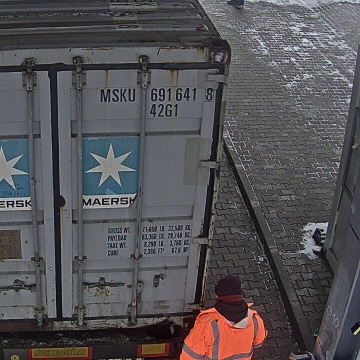serial_id: (100, 88, 213, 102)
